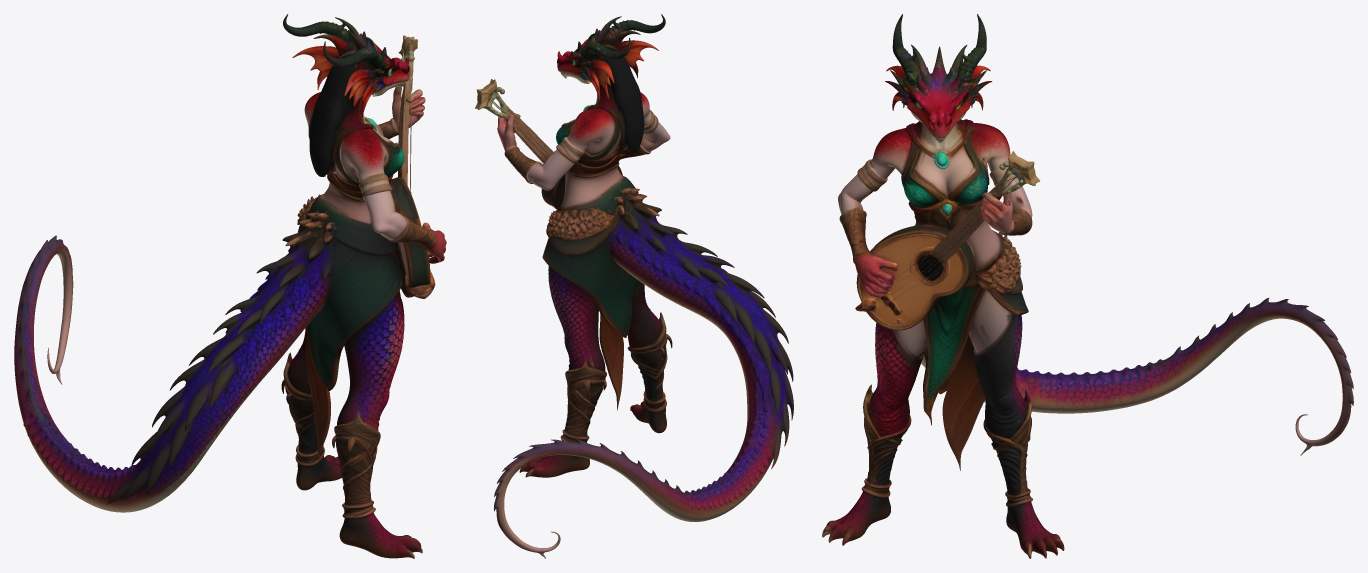
Rendered from dragonborn_bard_full_female_01.glb.
The picture shows the model from 3 angles, left to right: view 1: azimuth 30°, elevation 25°; view 2: azimuth 150°, elevation 25°; view 3: azimuth 270°, elevation 25°; orthographic projection. The views are drawn at different scales.
Parts seen in each view (by area): view 1: material; view 2: material; view 3: material.
Boxes of the visible parts, x1,y1,x2,y2 form: material: (14,14,446,558); material: (475,14,793,558); material: (822,14,1353,558).
Bounding box in the file's own units: 0.5862 × 0.8543 × 0.8228.
1 material, 1 textured.
